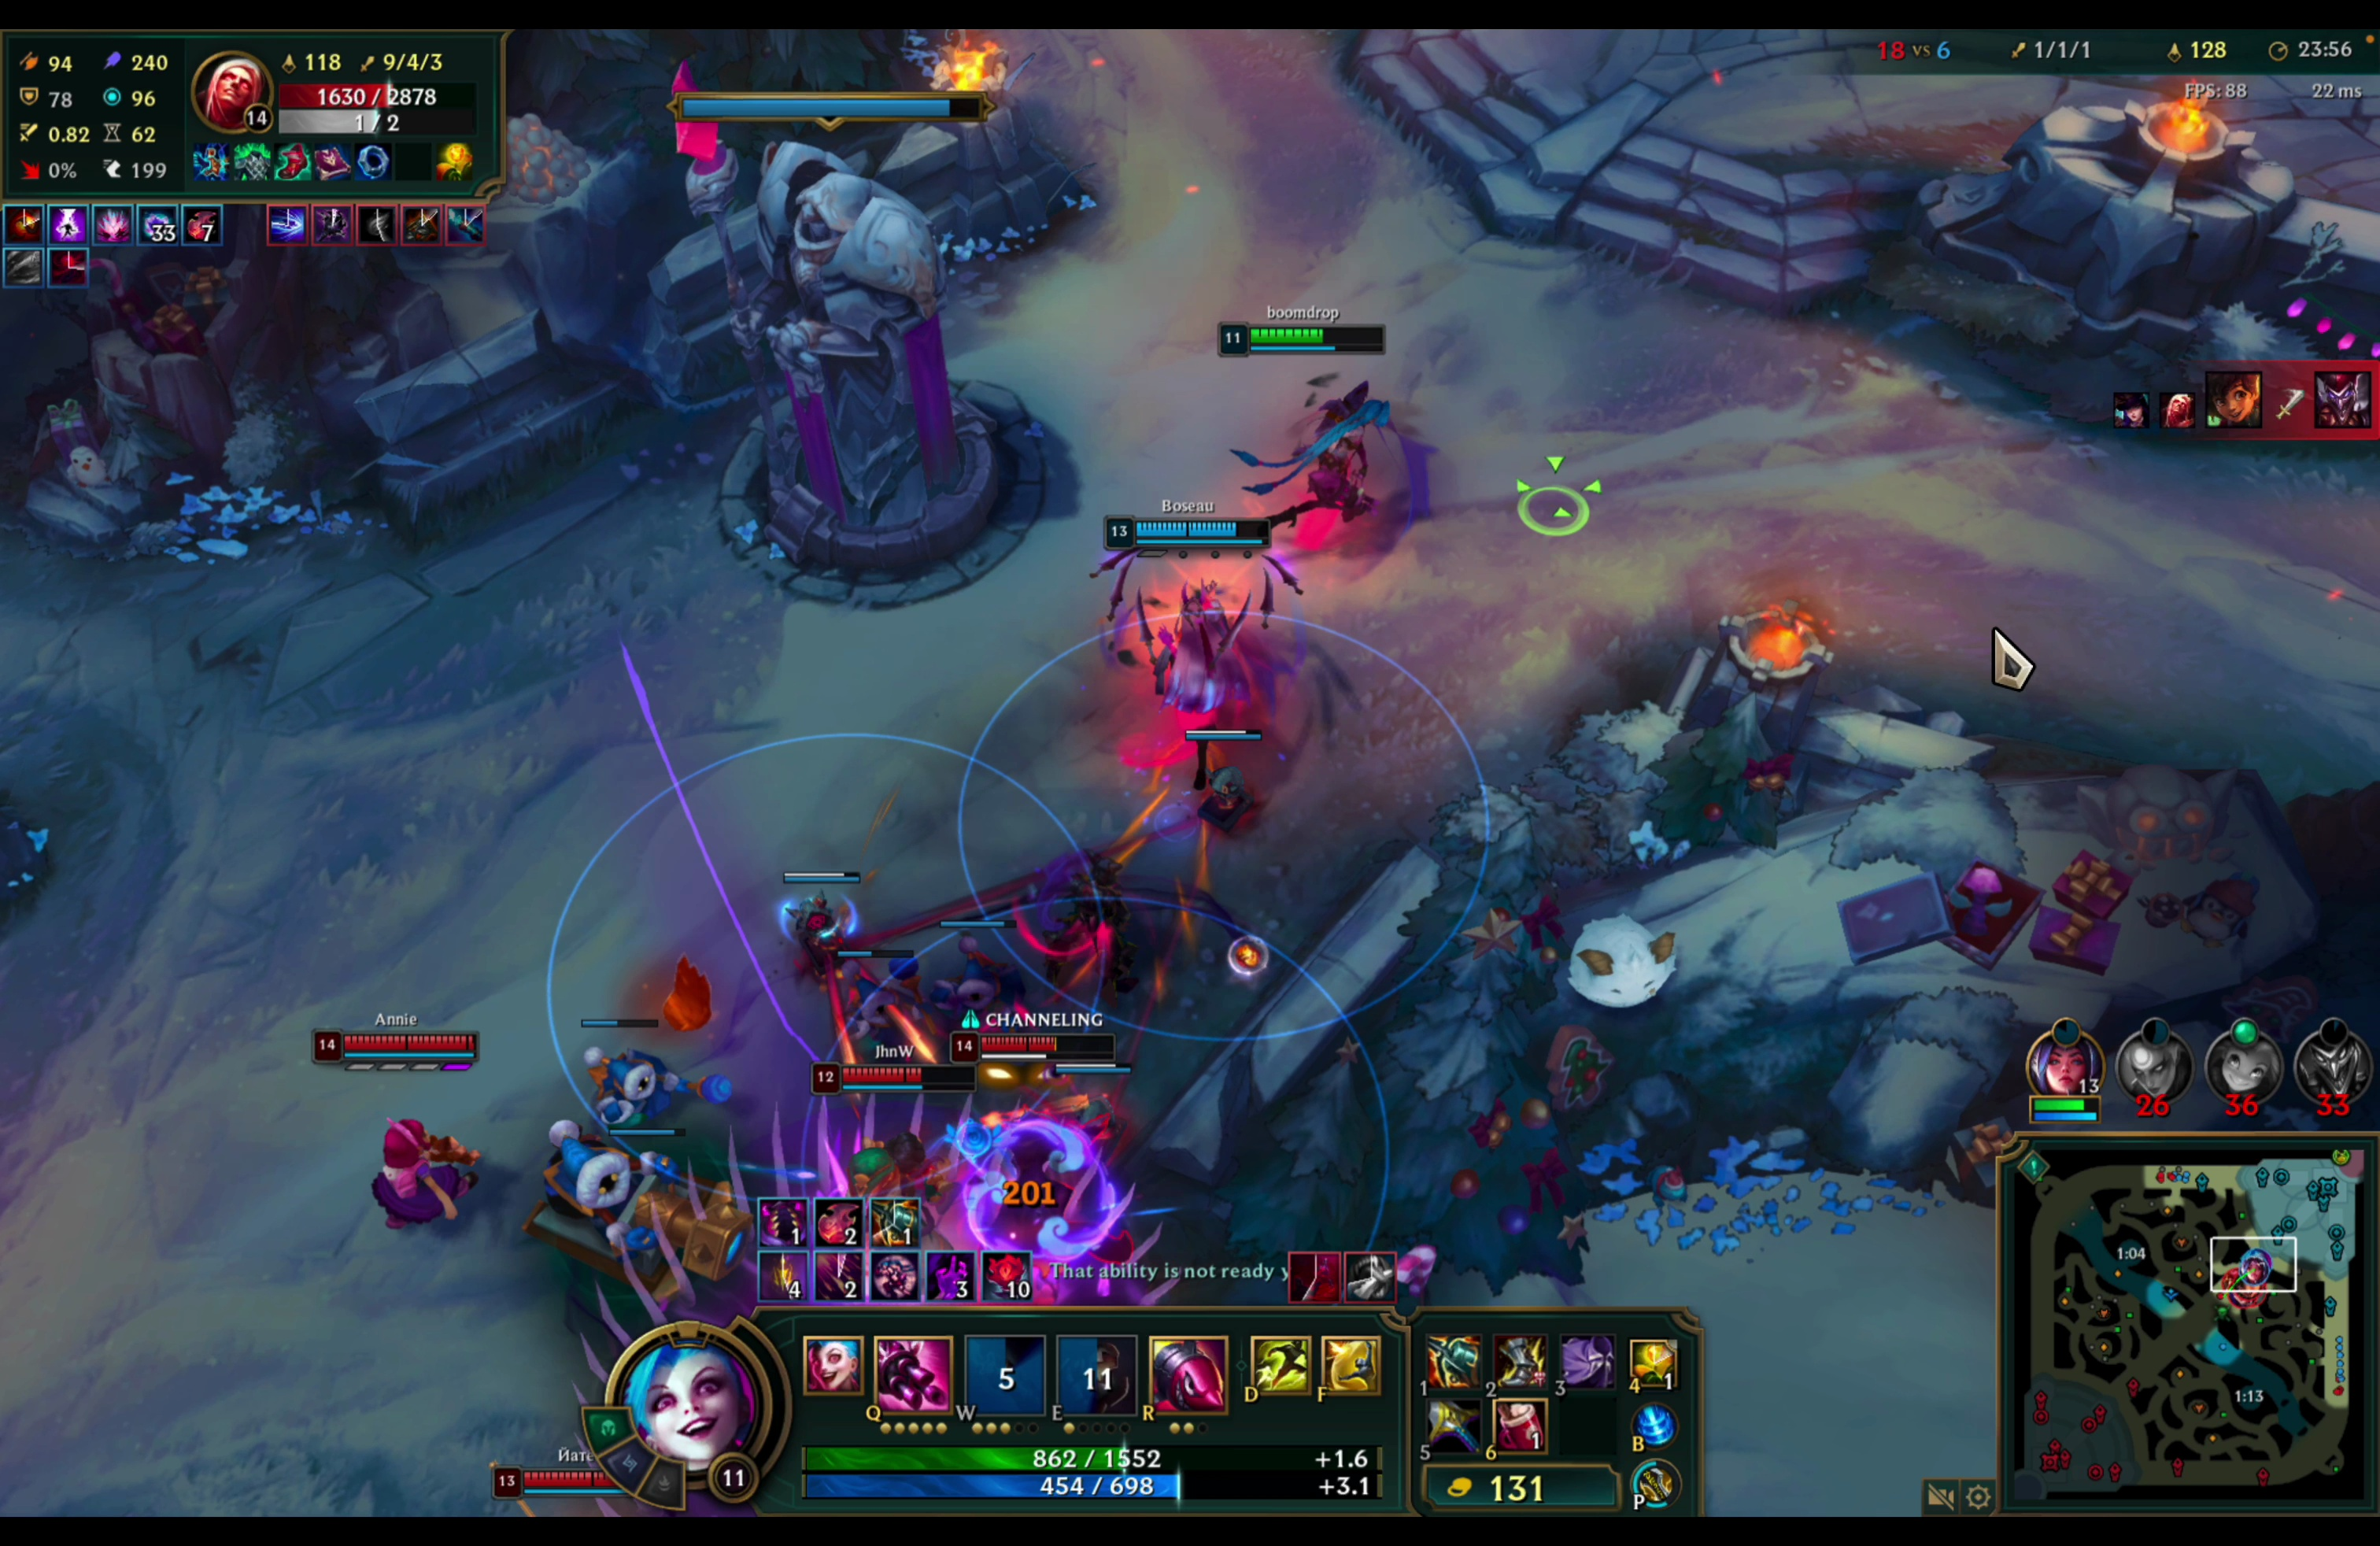LABEL_W_PROJECTILE: (1030, 311, 1400, 642)
